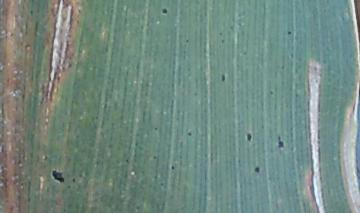tarspot: (50, 169, 67, 184), (276, 134, 285, 149), (220, 71, 227, 84), (160, 6, 169, 16), (246, 132, 252, 143), (267, 88, 275, 96), (253, 165, 260, 174), (219, 37, 226, 46), (241, 50, 249, 57), (286, 29, 292, 37), (151, 154, 159, 160), (186, 131, 193, 137), (183, 37, 190, 43), (152, 126, 159, 132), (124, 157, 130, 164), (28, 9, 34, 16), (70, 176, 76, 182), (170, 164, 175, 171)
